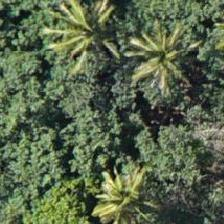coconut_tree: (113, 7, 203, 97), (42, 0, 132, 78), (81, 152, 171, 223)
